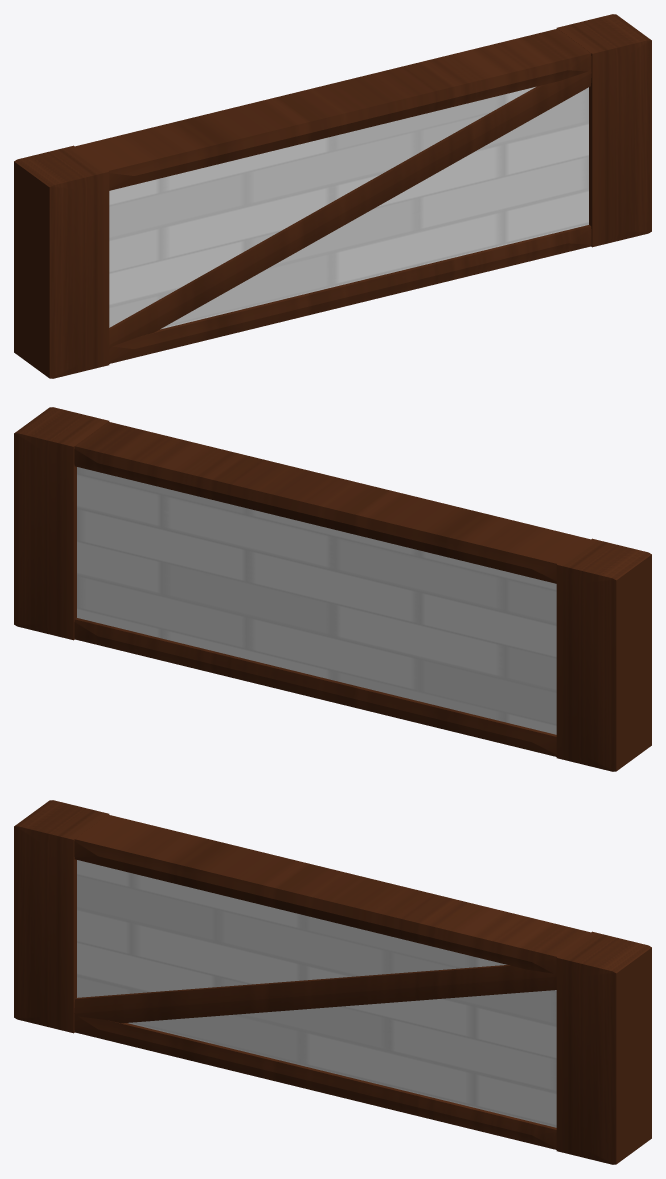
Rendered from Half_Half_Wall_R_Slash_Brick.fbx.
3 views of the same model, one above another, from view 1: azimuth 30°, elevation 25°; view 2: azimuth 150°, elevation 25°; view 3: azimuth 330°, elevation 25° (orthographic).
Parts seen in each view (by area): view 1: Half_Half_Wall_R_Slash; view 2: Half_Half_Wall_R_Slash; view 3: Half_Half_Wall_R_Slash.
Part boxes in pixels (<box>): Half_Half_Wall_R_Slash: <box>14,14,651,378</box>; Half_Half_Wall_R_Slash: <box>14,407,651,771</box>; Half_Half_Wall_R_Slash: <box>14,800,651,1164</box>.
Size of the model in its own units: 212 by 64.99 by 23.4.
